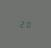two: (19, 19, 24, 27)
zero: (25, 19, 30, 28)
